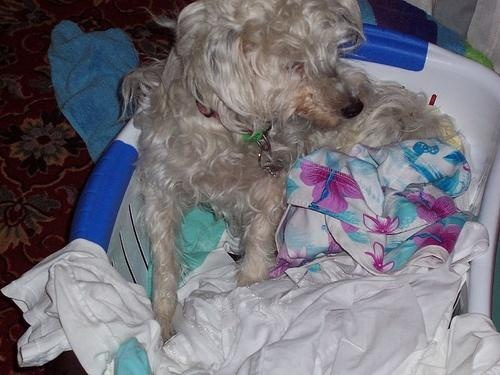dog: (132, 4, 464, 332)
